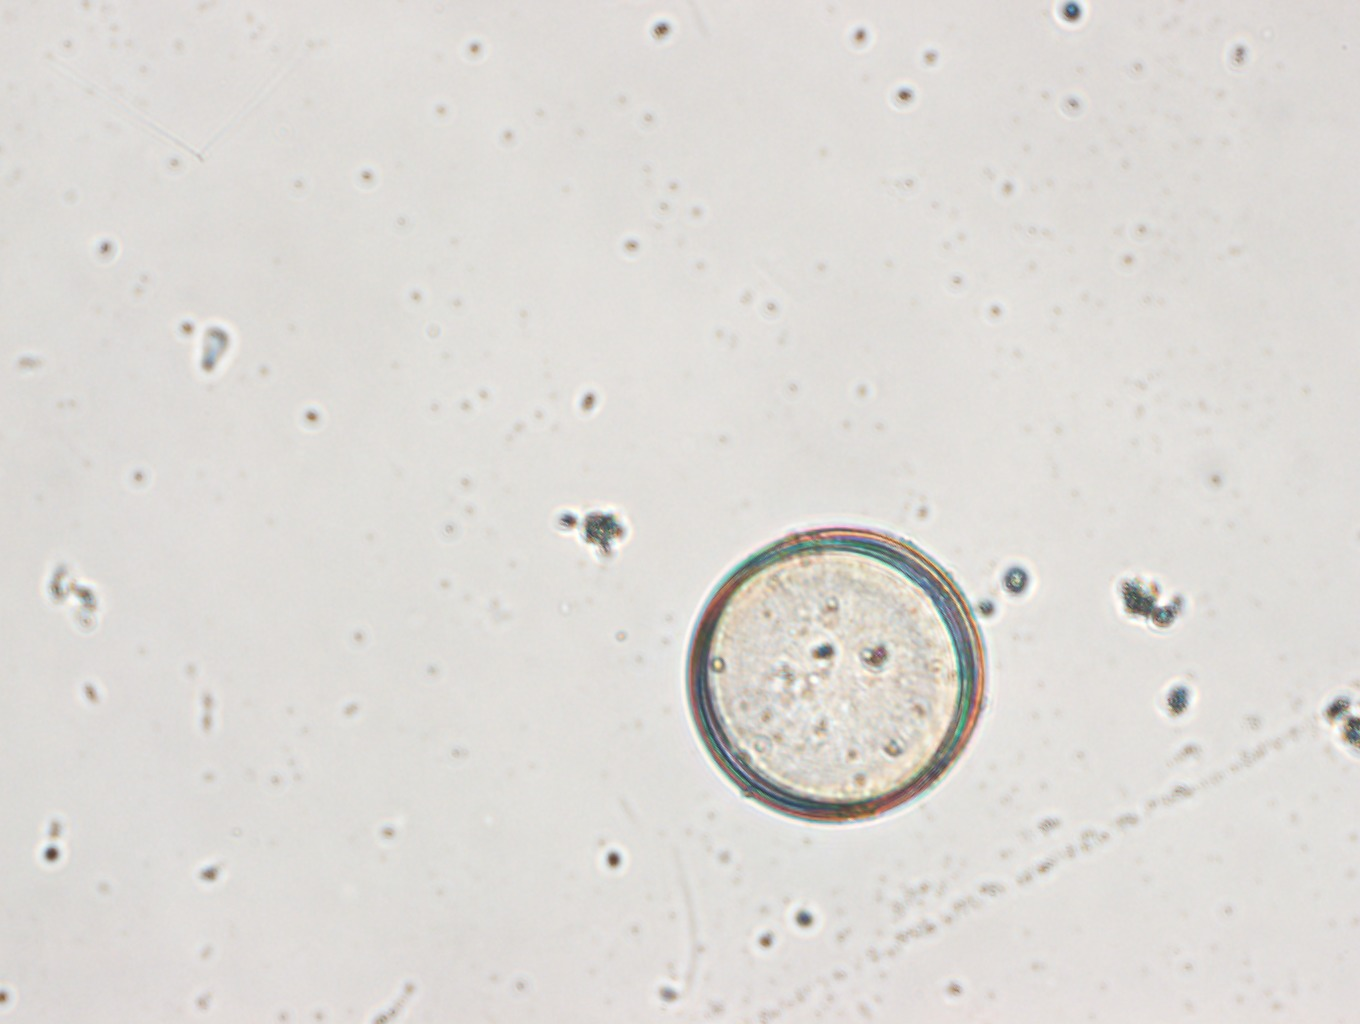coscinodiscus: (683, 523, 987, 827)
